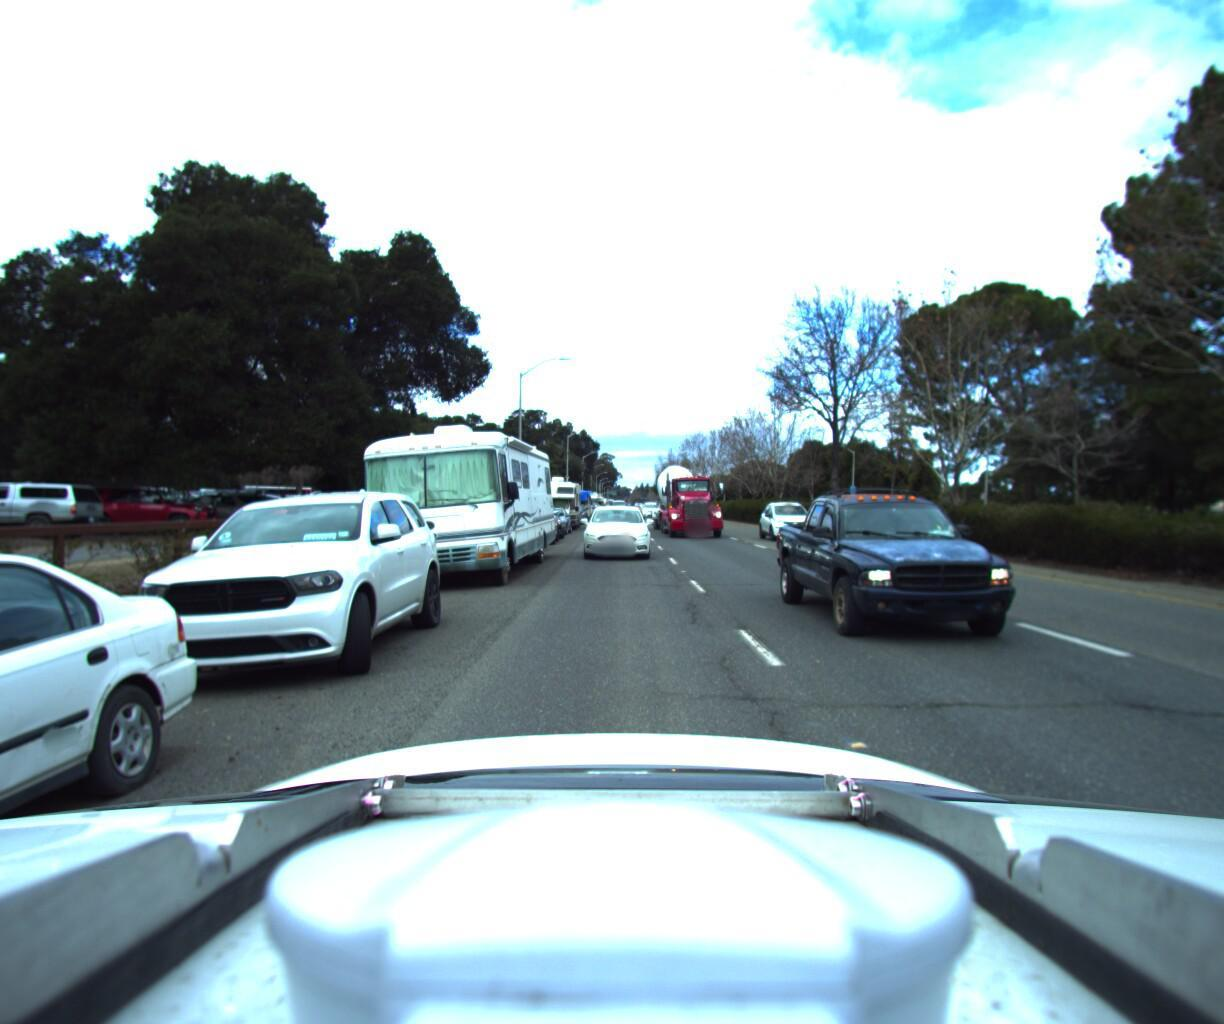car: (97, 472, 453, 705), (776, 466, 1109, 676), (578, 494, 653, 555), (280, 483, 380, 518), (763, 497, 829, 540), (521, 495, 560, 535), (529, 498, 571, 530)
other_vehicle: (338, 396, 557, 597), (526, 466, 580, 524), (560, 482, 590, 513)
truck: (653, 442, 732, 536)
